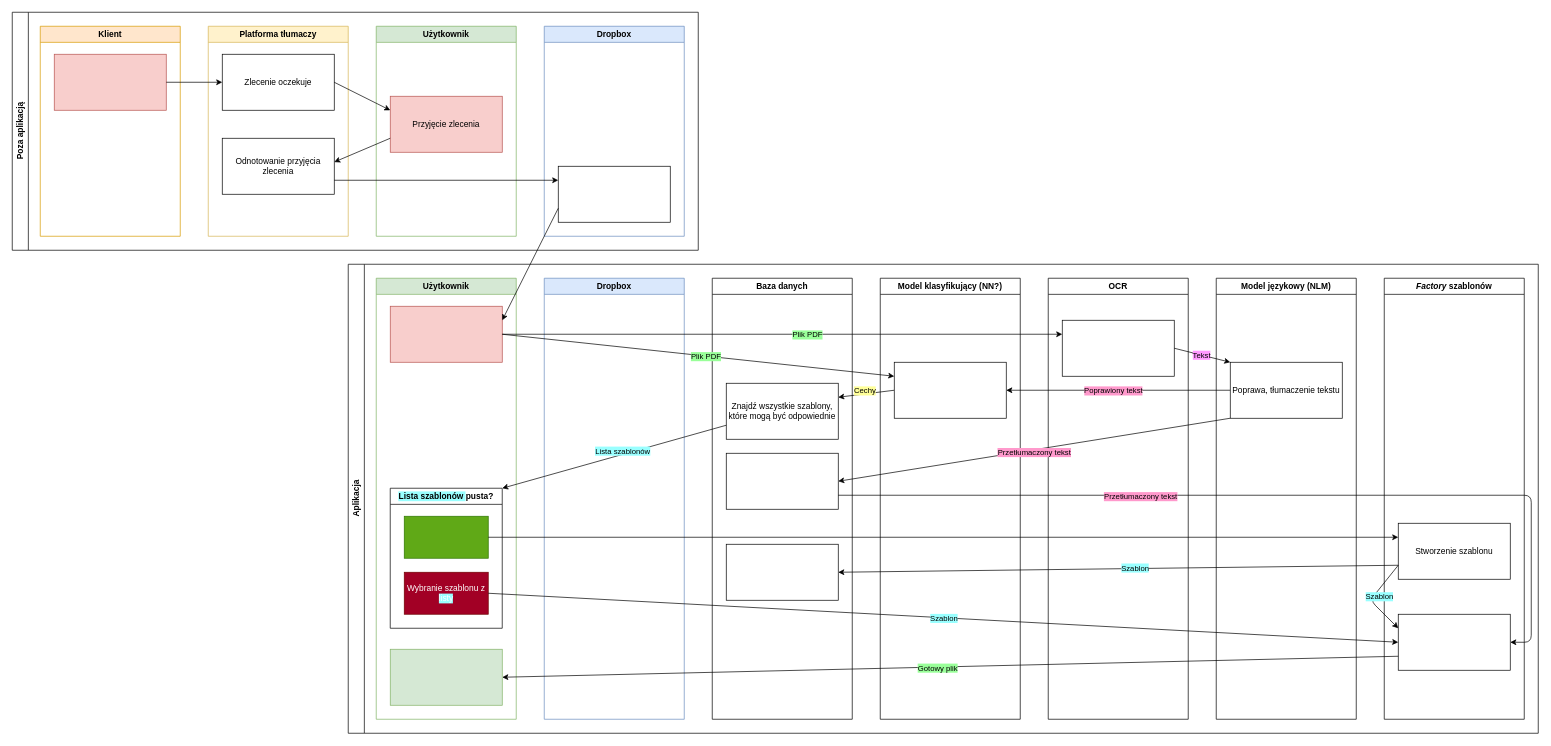
The diagram is 1551 pixels wide and 746 high, and some of its shapes have lost their labels. The shapes that lost their labels are listed below. From the top down, each one's centre as x and y in pixels, then its label:
(x=110, y=82): Utworzenie zlecenia
(x=614, y=194): Pliki do odpowiedniego folderu
(x=446, y=334): Wybranie pliku do konwersji, kliknięcie opcji w menu kontekstowym
(x=1118, y=348): Wyodrębnienie tekstu
(x=950, y=390): Próba klasyfikacji szablonu dokumentu
(x=782, y=481): Tekst tymczasowo w bazie
(x=446, y=537): Informacja, model stworzy nowy szablon
(x=782, y=572): Zapis szablonu do bazy
(x=1454, y=642): Wypełnienie szablonu
(x=446, y=677): Jest!
